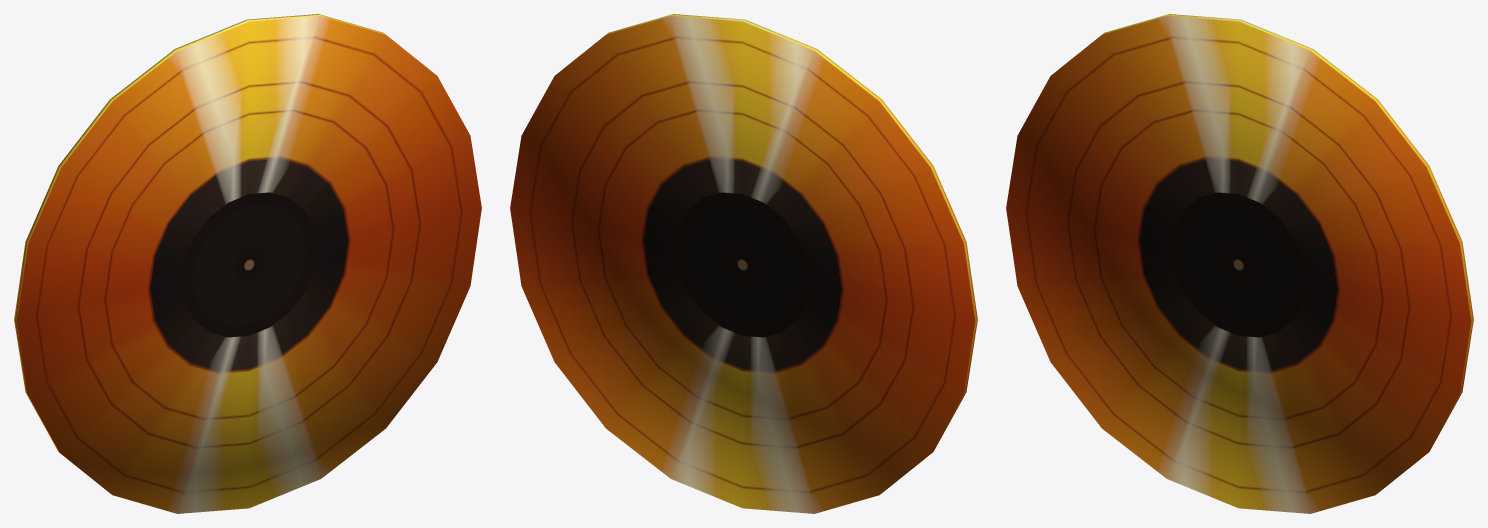
File: lp_black.fbx
The picture shows the model from 3 angles, left to right: view 1: azimuth 30°, elevation 25°; view 2: azimuth 150°, elevation 25°; view 3: azimuth 330°, elevation 25°; orthographic projection.
Parts seen in each view (by area): view 1: lp_black; view 2: lp_black; view 3: lp_black.
Boxes of the visible parts, bbox=[...] form: lp_black: bbox=[14, 14, 481, 513]; lp_black: bbox=[510, 14, 977, 513]; lp_black: bbox=[1006, 14, 1473, 513].
Bounding box in the file's own units: 5.9 × 5.9 × 0.0581.
